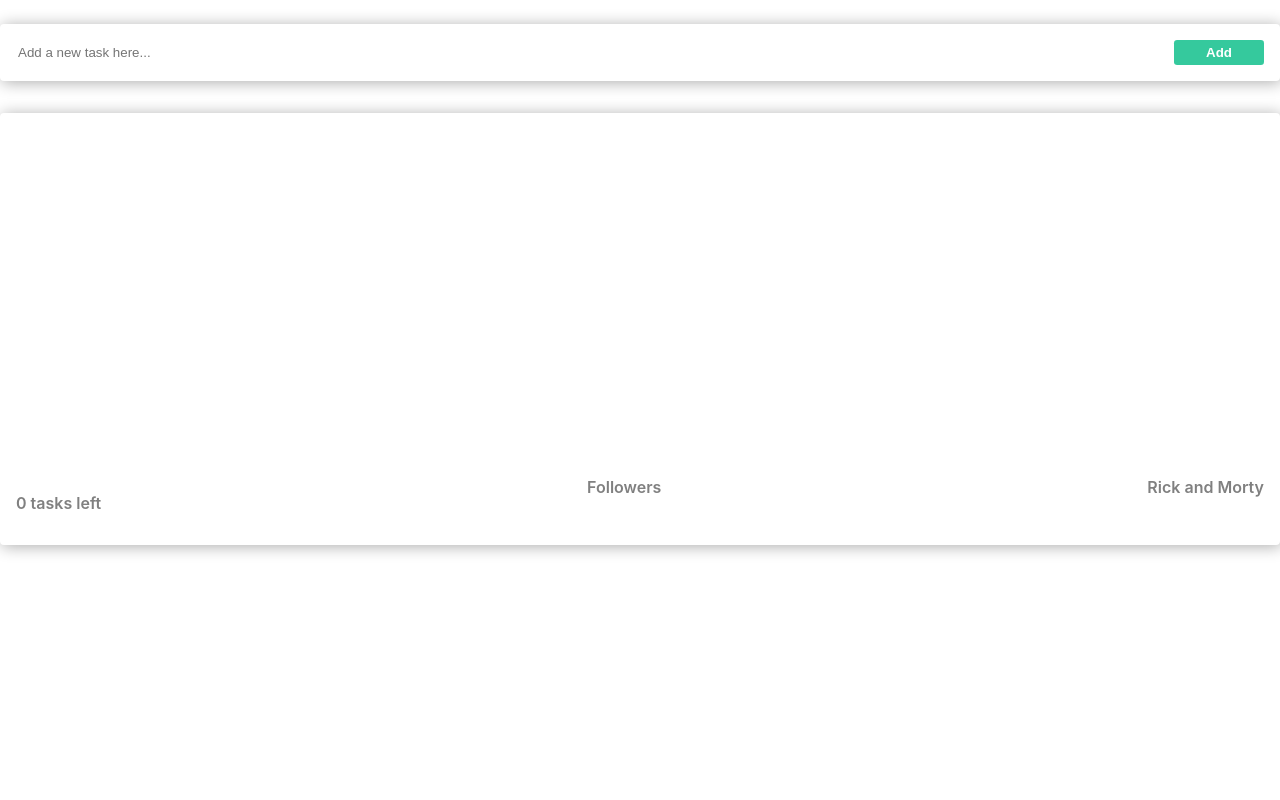
Test: should be able to type into input
Type "Go Grocery Shopping" into the field with placeholder "Add a new task here...".
click(580, 52); type("Go Grocery Shopping")  # box [16,40,1143,65]
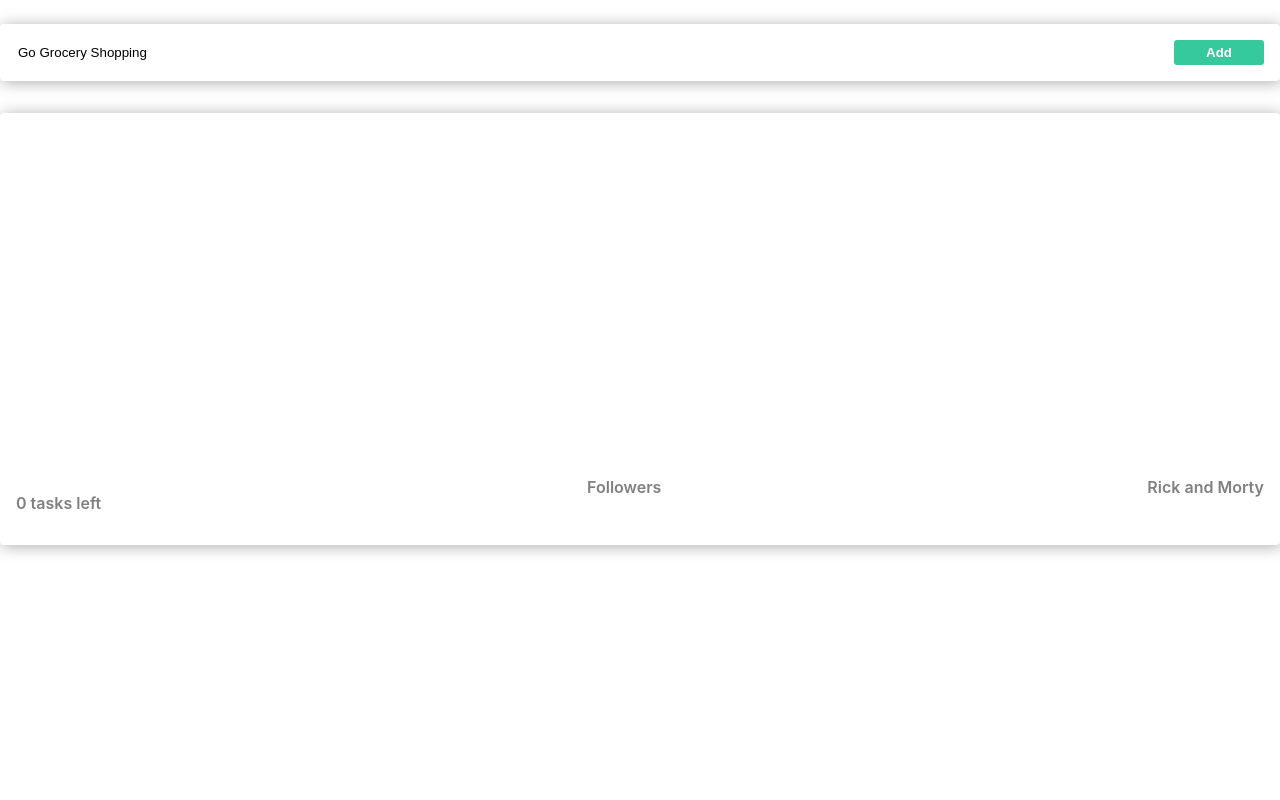
Click the button "Add".
click(1219, 52)  # box [1174,40,1264,65]
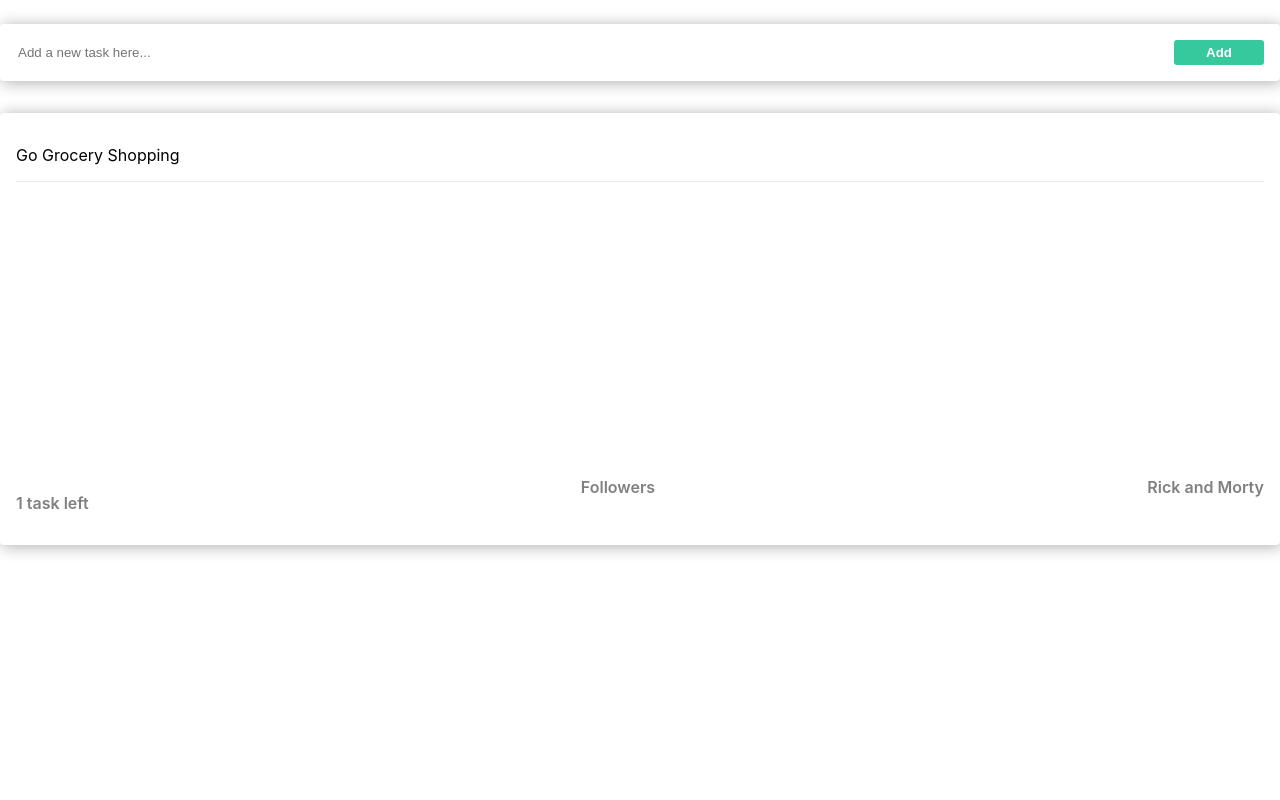
Result: the text "Go Grocery Shopping" is shown at [16,129,1264,182]
